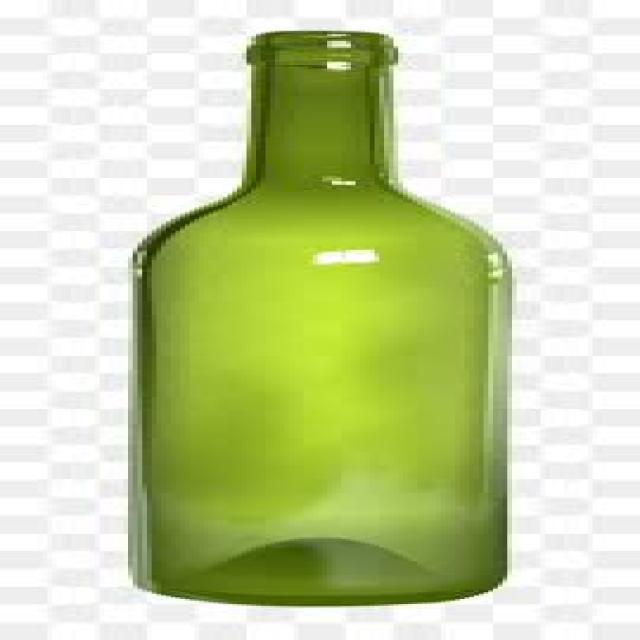glass: (128, 29, 507, 604)
